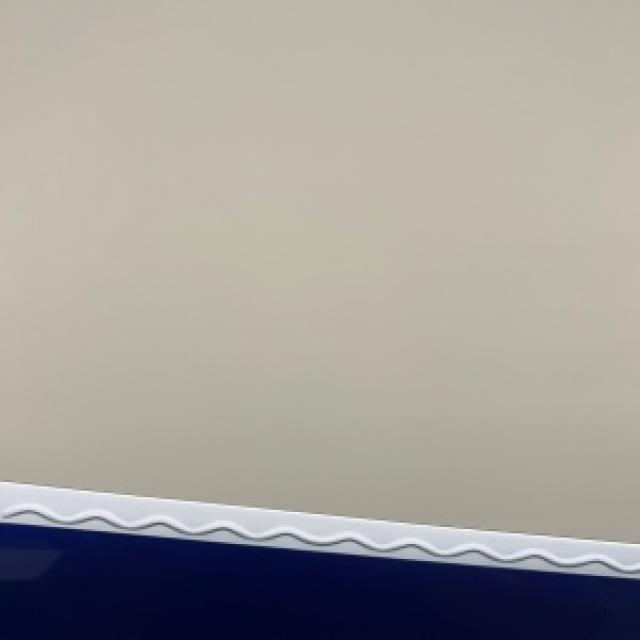healthy: (0, 480, 638, 638)
